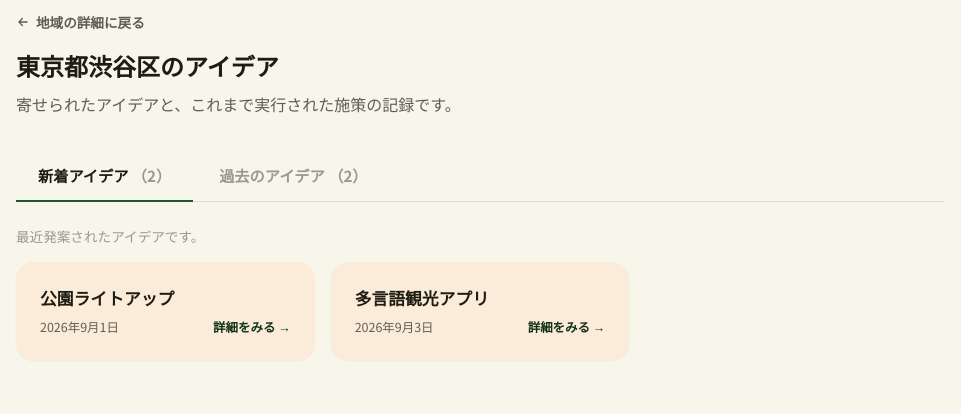
Test: IdeaListView › タブをクリックすると、ルート遷移せずその場で表示が切り替わる
Click the button with class "idea-list-view__tab" showing "過去のアイデア （2）": {"x": 293, "y": 176} [197,150,390,202]
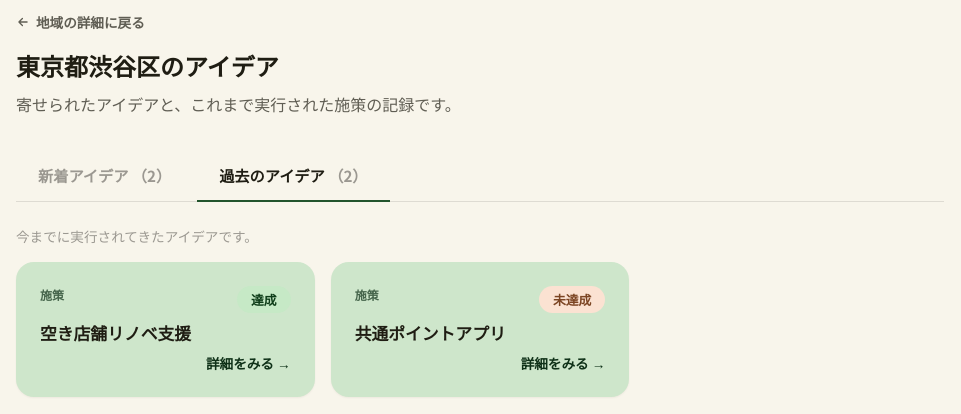
Expected: the text "空き店舗リノベ支援" is shown, [40,321,191,345]
